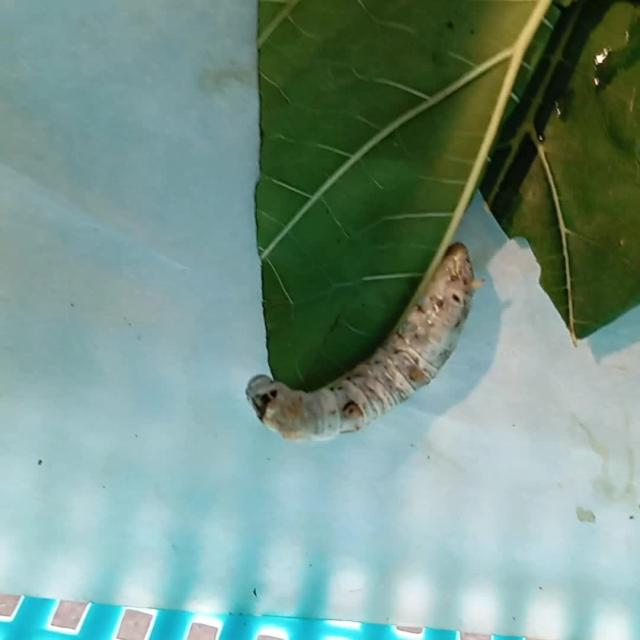Grasserie: (231, 234, 482, 458)
